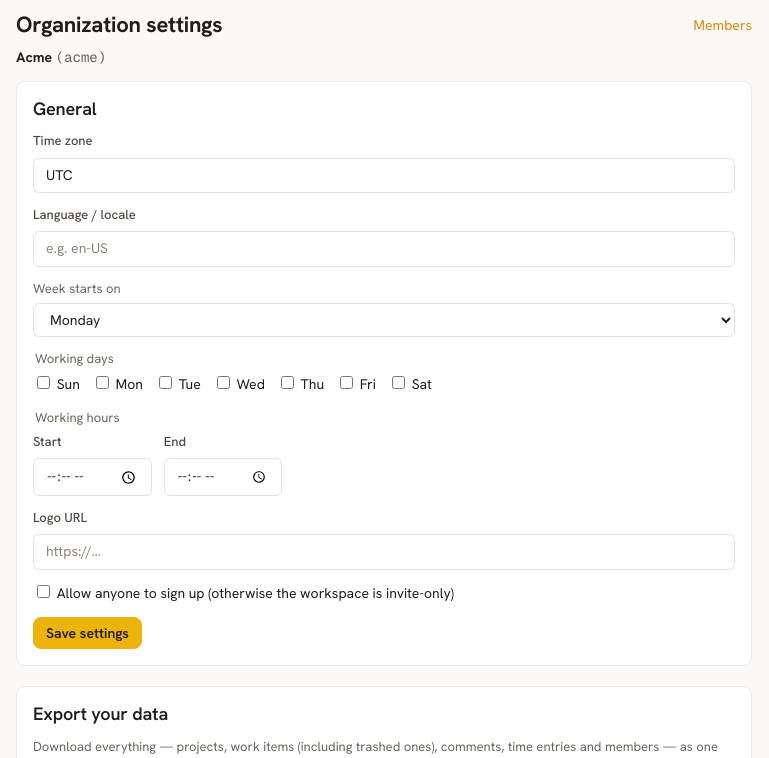
Test: OrganizationClient › surfaces a save error
Click the button "Save settings": {"x": 87, "y": 633} 33,617 -> 142,649
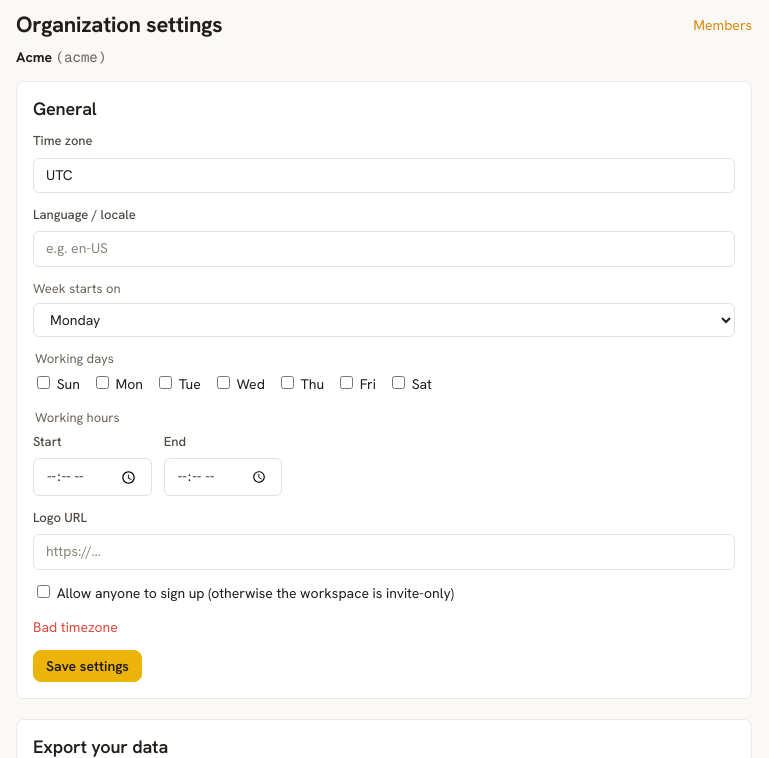
Check: the message reads "Bad timezone", box 33,618 -> 118,636
